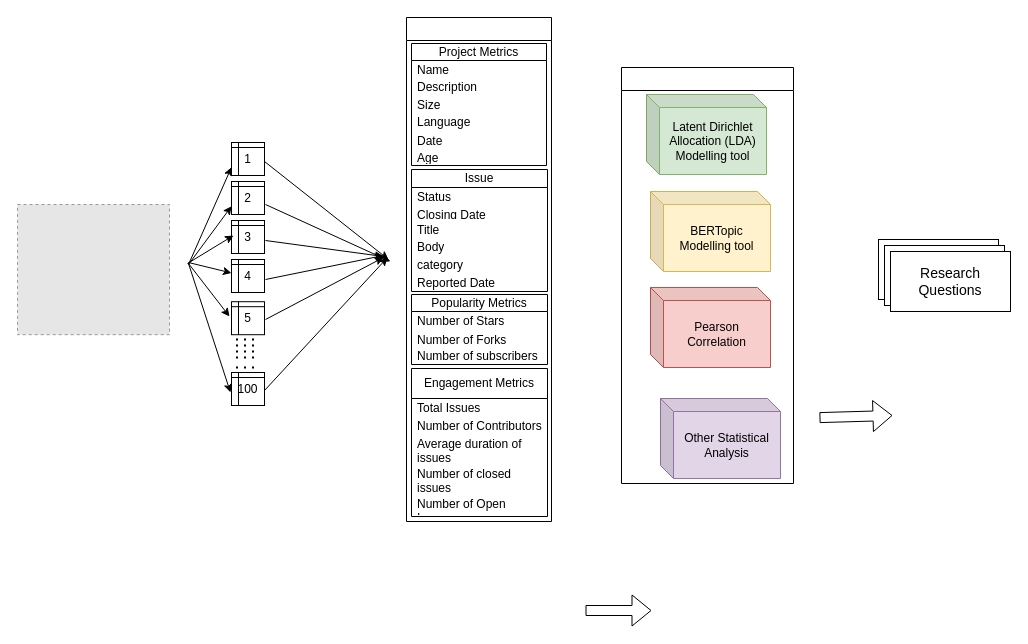
This 1028x644 diagram has some shape labels left out. Grey dashed boxes stand in for pictures. The box of each missing label's shape, as (x1, y1, x2, y2) in pixels:
Data Analysis Tools: (620, 66, 794, 484)
Dataset: (406, 16, 552, 522)
